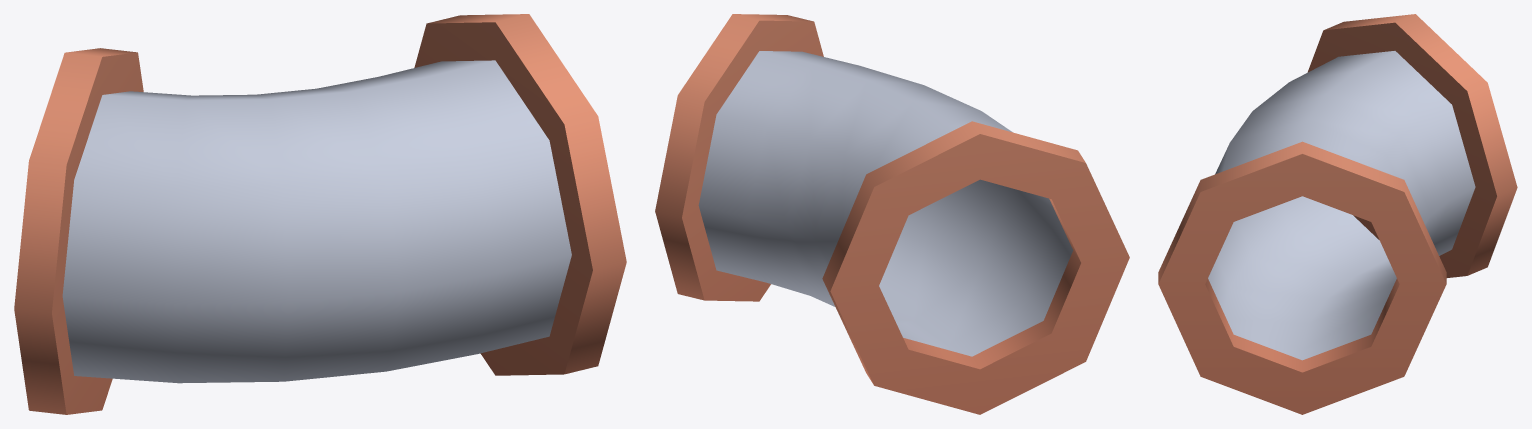
File: pipe-glass-large-curve.obj
3 renders of one model, left to right at view 1: azimuth 30°, elevation 25°; view 2: azimuth 150°, elevation 25°; view 3: azimuth 270°, elevation 25°, orthographic. The views are drawn at different scales.
Visible parts, largest first — view 1: pipe-glass-large-curve; view 2: pipe-glass-large-curve; view 3: pipe-glass-large-curve.
Boxes of the visible parts, bbox=[...] form: pipe-glass-large-curve: bbox=[14, 14, 626, 414]; pipe-glass-large-curve: bbox=[655, 14, 1129, 414]; pipe-glass-large-curve: bbox=[1158, 14, 1517, 414].
Size of the model in its own units: 1.5 by 1 by 1.25.
